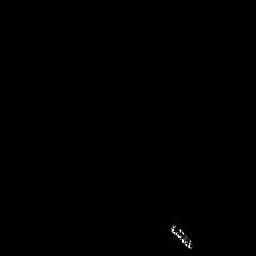ship: (166, 220, 196, 253)
